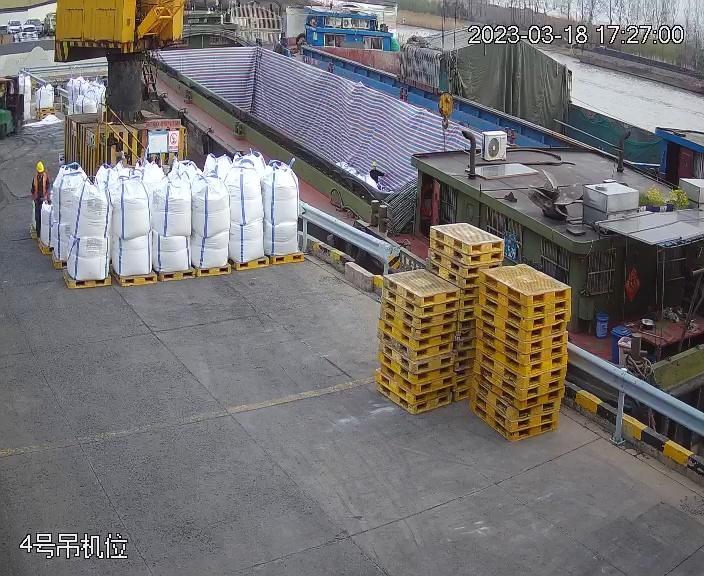head: (32, 158, 50, 184), (369, 159, 382, 180)
helmet: (35, 159, 45, 171), (371, 161, 378, 166)
people: (29, 157, 51, 242), (369, 158, 384, 184)
